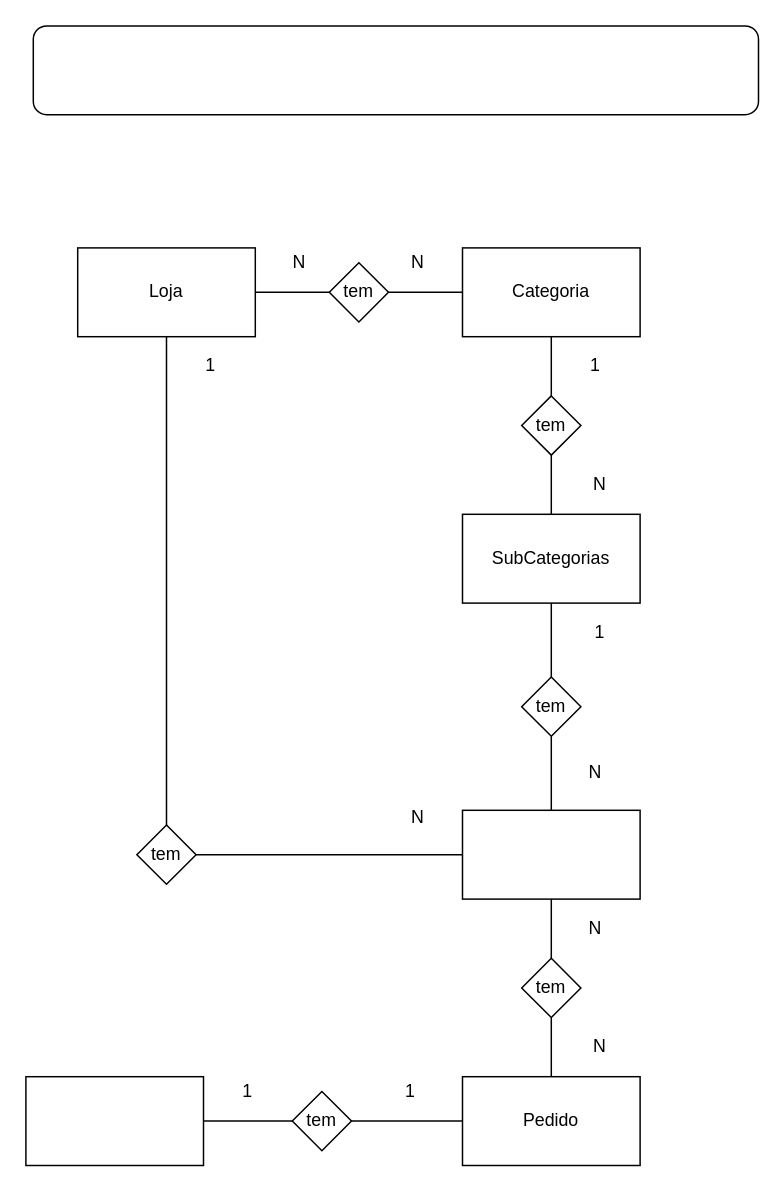
Image size: 784x1191. Some labels were removed from this diagram. The centre of each missing label's shape, as x and y in pixels:
"Cliente" belongs at (114,1120).
"Modelagem_Conceitual" belongs at (395,69).
"Produto" belongs at (550,854).
